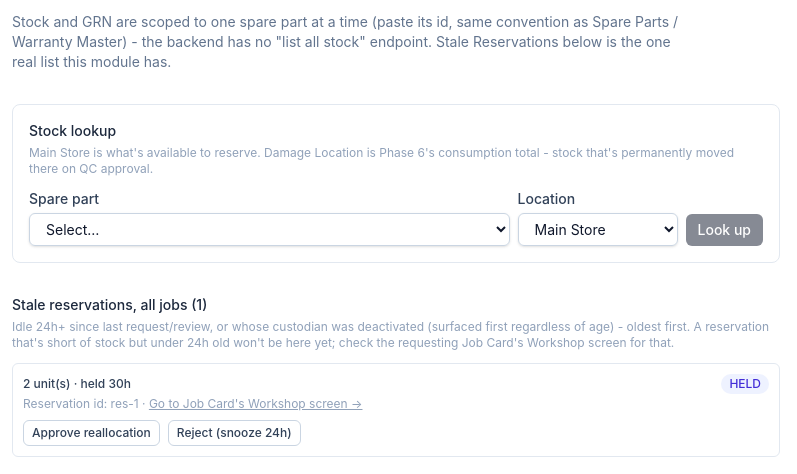
Test: InventoryPage - review then confirm-return handoff (the-fool: RETURN_PENDING is otherwise a dead end) › after Approve reallocation, tells the viewer the reservation is now RETURN_PENDING
This screenshot has width=797, height=474.
Click the button "Approve reallocation" at (91, 433), box x1=23 y1=420 x2=160 y2=446
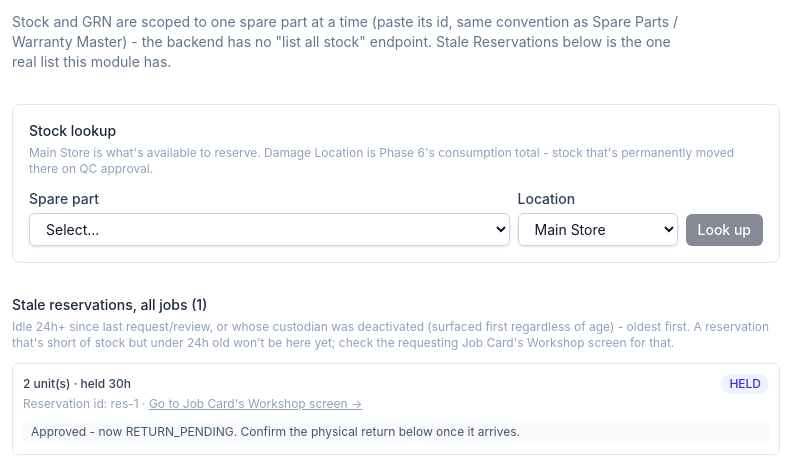
Expected: the text "now RETURN_PENDING" is shown, x1=31 y1=424 x2=520 y2=439
